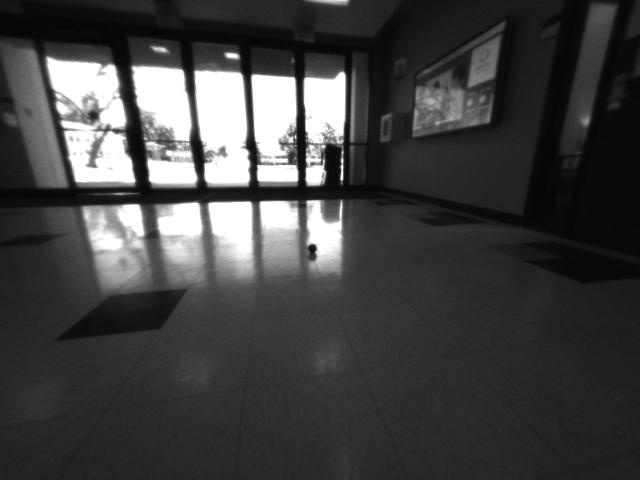dogtoy: (299, 235, 326, 264)
